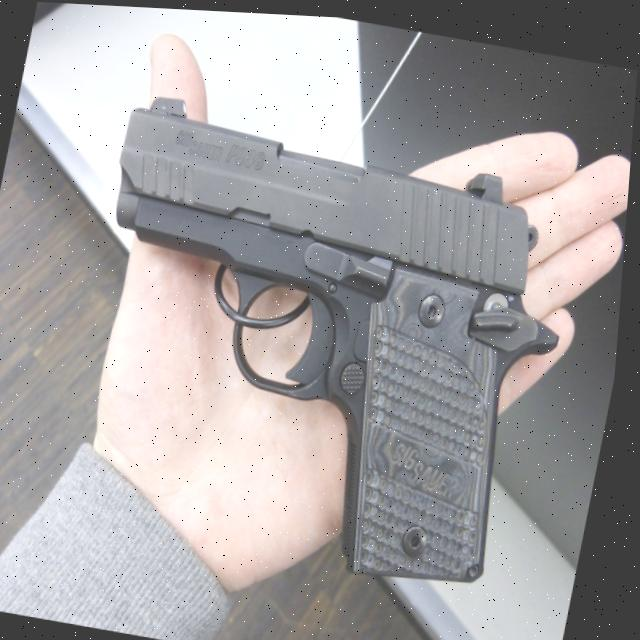pistol: (51, 88, 598, 605)
